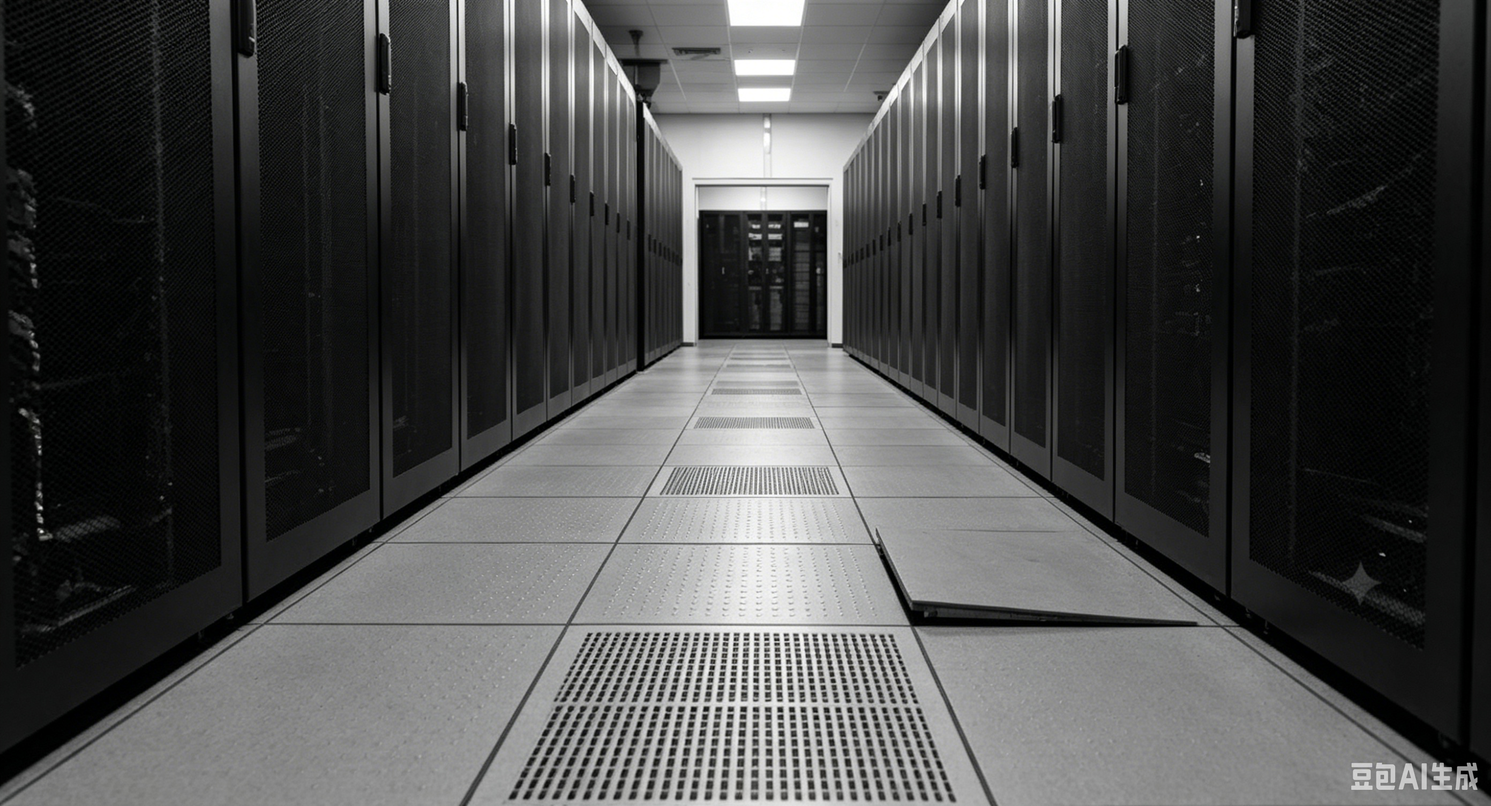floor_defect: (858, 521, 1222, 635)
